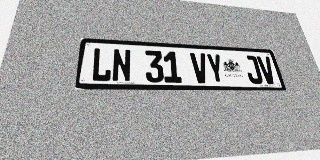1: (162, 51, 182, 83)
3: (145, 50, 164, 83)
J: (243, 55, 264, 84)
L: (90, 48, 112, 82)
N: (112, 49, 131, 82)
V: (256, 56, 278, 84), (190, 53, 210, 83)
Y: (205, 53, 226, 83)
